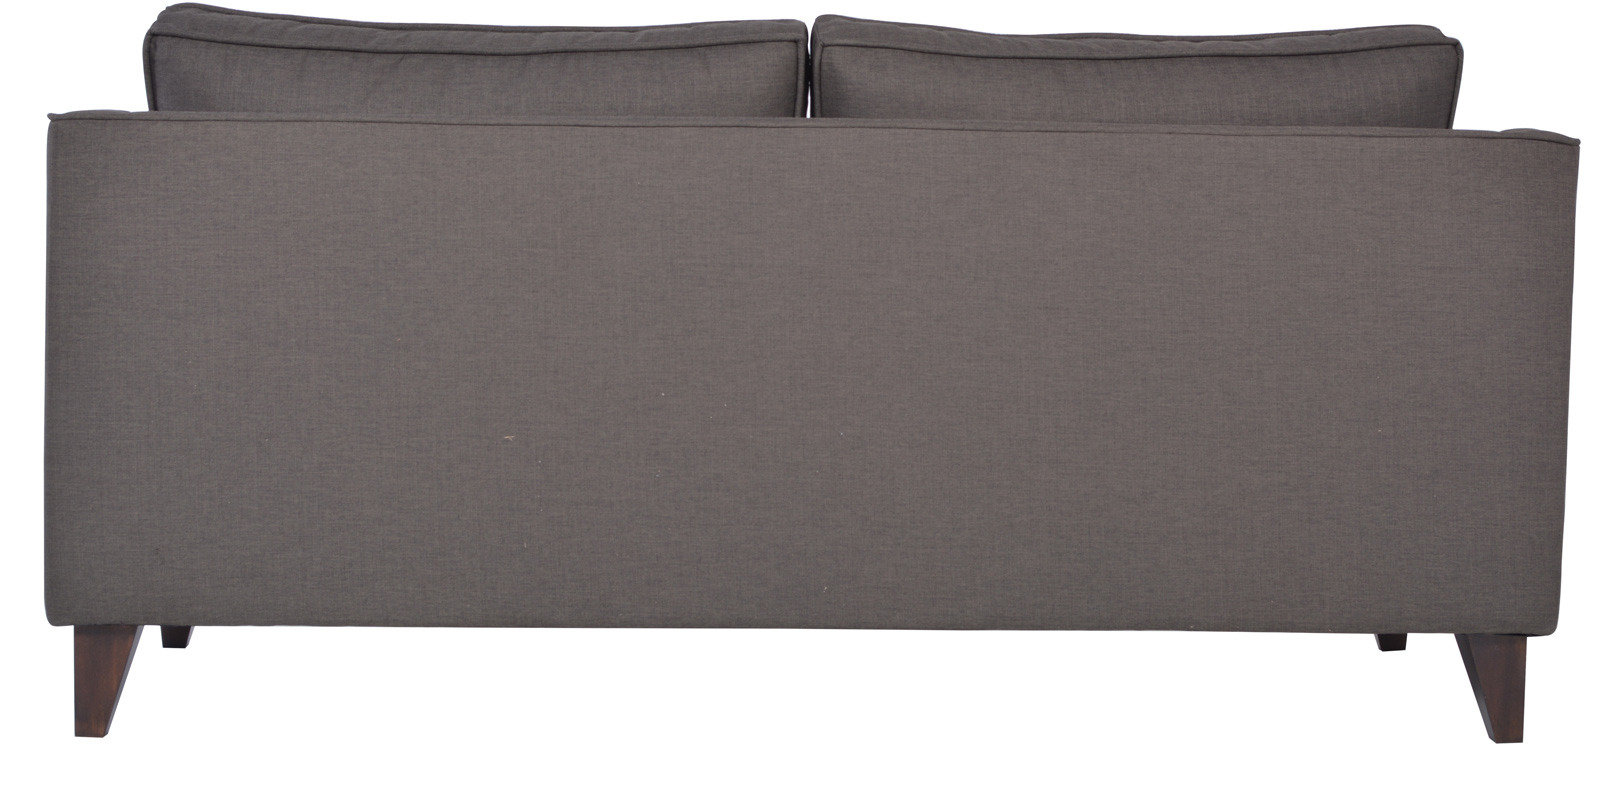Ithaca Impulse Three Seater Sofa with Throw Cushions in Charcoal Grey Colour by: (32, 1, 1574, 776)
